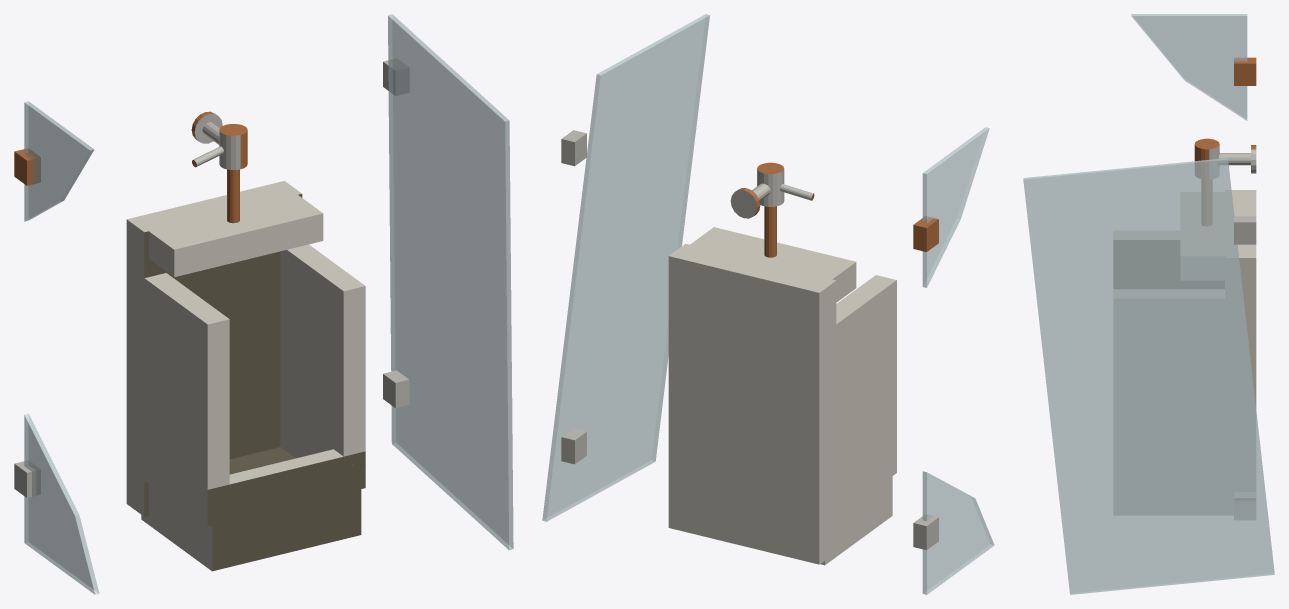
The model's file is toilet_small_sitting_v2.fbx.
3 renders of one model, left to right at view 1: azimuth 30°, elevation 25°; view 2: azimuth 150°, elevation 25°; view 3: azimuth 270°, elevation 25°, orthographic. The views are drawn at different scales.
Parts seen in each view (by area): view 1: 08_UrinalDivider_Damaged_Mesh; view 2: 08_UrinalDivider_Damaged_Mesh; view 3: 08_UrinalDivider_Damaged_Mesh.
Part boxes in pixels (box(x1,y1,x2,y2)): 08_UrinalDivider_Damaged_Mesh: box(14, 14, 513, 594); 08_UrinalDivider_Damaged_Mesh: box(542, 14, 994, 594); 08_UrinalDivider_Damaged_Mesh: box(1023, 14, 1274, 594).
Size of the model in its own units: 89.74 by 104 by 56.2.
